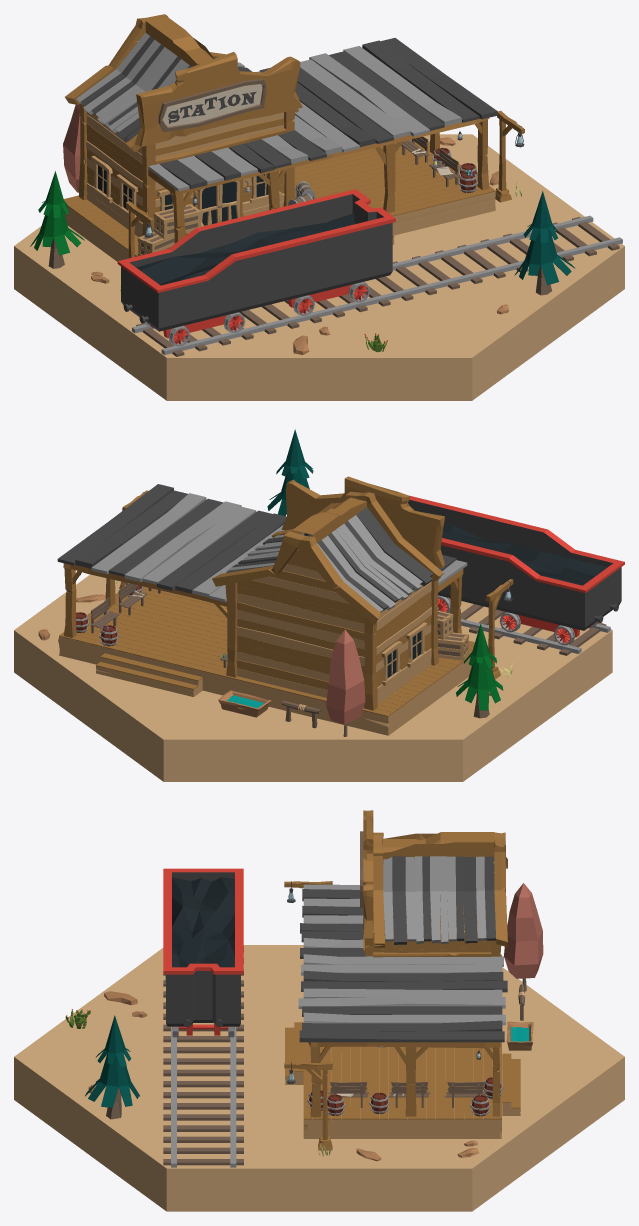
The model's file is Tile_18.fbx.
3 views of the same model, one above another, from view 1: azimuth 30°, elevation 25°; view 2: azimuth 150°, elevation 25°; view 3: azimuth 270°, elevation 25° (orthographic). The views are drawn at different scales.
Visible parts, largest first — view 1: Tile_18_Base, Tile_18_Building_Station, Tile_18_Freight_wagon, Tile_18, Tile_18_Platform2, Tile_18_Railway, Tile_18_Signboard_Station; view 2: Tile_18_Building_Station, Tile_18_Base, Tile_18_Platform2, Tile_18_Freight_wagon, Tile_18, Tile_18_Railway, Tile_18_drinker; view 3: Tile_18_Base, Tile_18_Building_Station, Tile_18_Platform2, Tile_18_Freight_wagon, Tile_18, Tile_18_Railway, Tile_18_drinker.
Boxes of the visible parts, x1,y1,x2,y2 form: Tile_18_Base: (14, 134, 624, 400); Tile_18_Building_Station: (65, 14, 497, 243); Tile_18_Freight_wagon: (117, 189, 395, 346); Tile_18: (30, 104, 575, 354); Tile_18_Platform2: (63, 139, 495, 261); Tile_18_Railway: (132, 215, 622, 356); Tile_18_Signboard_Station: (158, 79, 266, 132); Tile_18_Building_Station: (57, 476, 467, 710); Tile_18_Base: (14, 574, 612, 781); Tile_18_Platform2: (59, 586, 474, 735); Tile_18_Freight_wagon: (407, 496, 624, 645); Tile_18: (38, 429, 514, 736); Tile_18_Railway: (438, 604, 610, 655); Tile_18_drinker: (218, 690, 271, 717); Tile_18_Base: (14, 945, 624, 1211); Tile_18_Building_Station: (298, 810, 507, 1117); Tile_18_Platform2: (285, 954, 520, 1138); Tile_18_Freight_wagon: (163, 868, 243, 1038); Tile_18: (65, 881, 543, 1161); Tile_18_Railway: (163, 946, 243, 1167); Tile_18_drinker: (506, 1021, 533, 1050).
Size of the model in its own units: 2072 by 2318 by 971.
